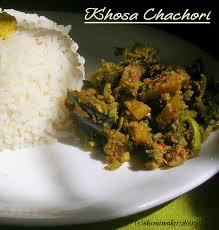Organic: (4, 5, 219, 230)
